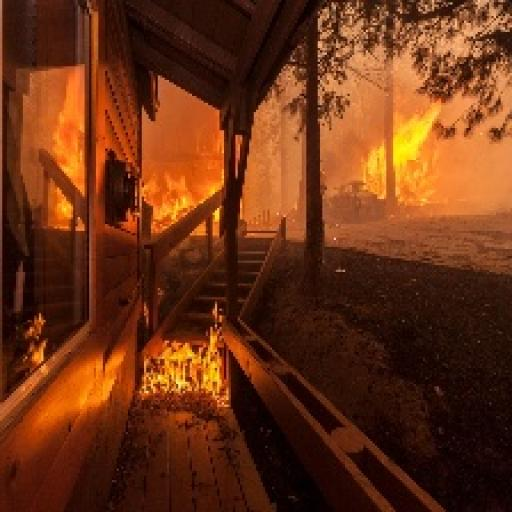fire and smoke: (142, 313, 222, 402), (142, 169, 217, 233), (393, 105, 439, 206), (363, 144, 384, 197)
